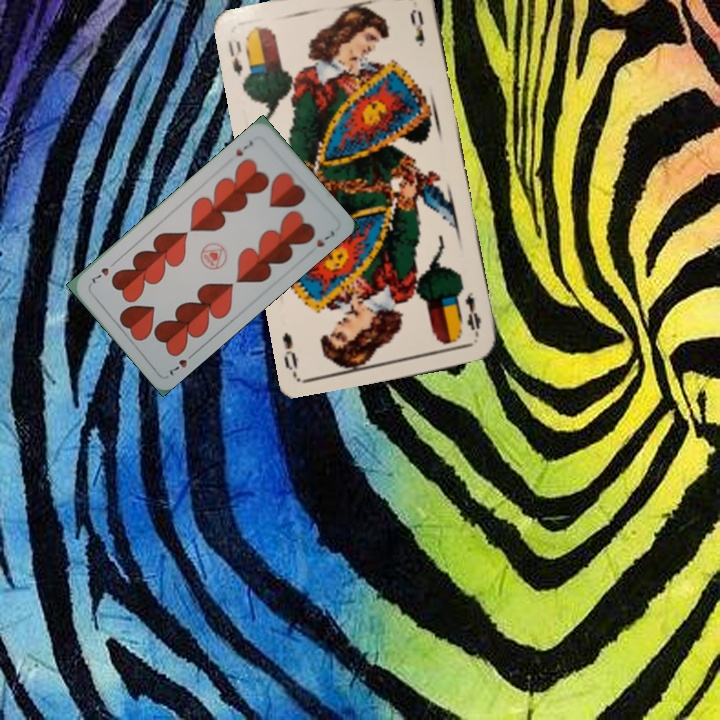EO: (461, 288, 484, 340), (223, 37, 246, 79)
H7: (165, 348, 198, 379), (231, 136, 255, 159)
